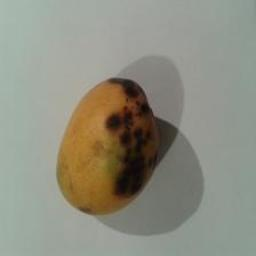Mango Rotten: (50, 75, 164, 224)
